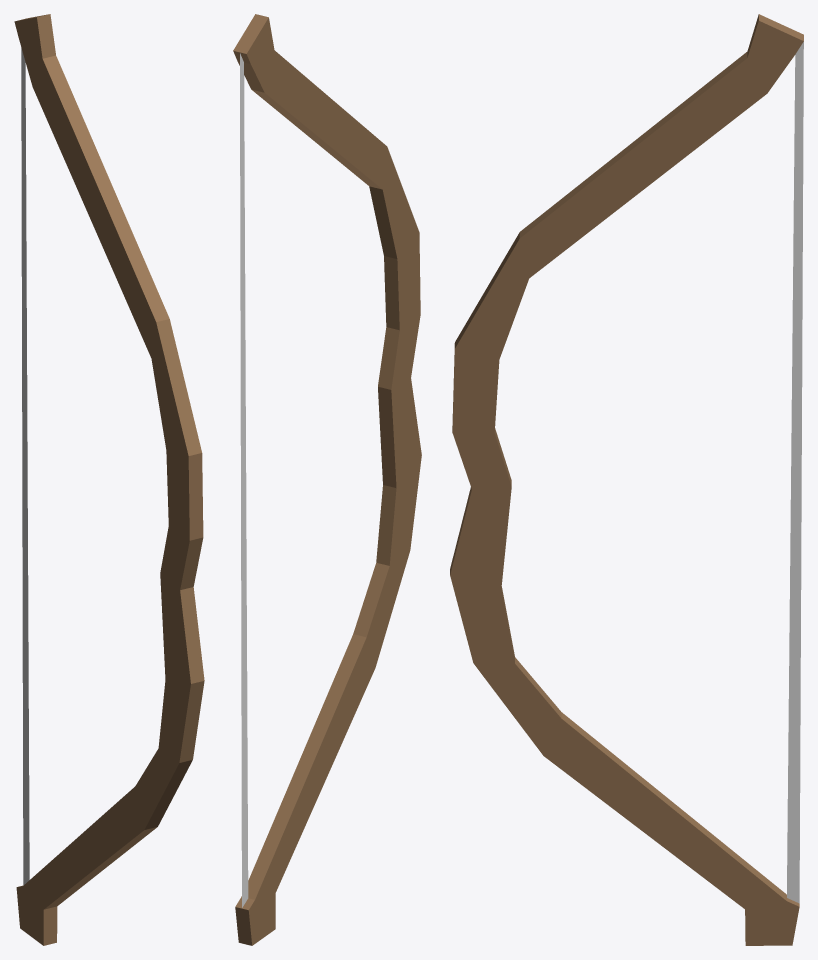
Rendered from bow.glb.
3 views of the same model, side by side, from view 1: azimuth 30°, elevation 25°; view 2: azimuth 150°, elevation 25°; view 3: azimuth 270°, elevation 25° (orthographic).
Parts seen in each view (by area): view 1: bow; view 2: bow; view 3: bow.
Part boxes in pixels (x1,y1,x2,y2): bow: [14, 14, 204, 945]; bow: [233, 14, 421, 945]; bow: [450, 14, 803, 945].
Size of the model in its own units: 0.0607 by 3.94 by 1.37.
